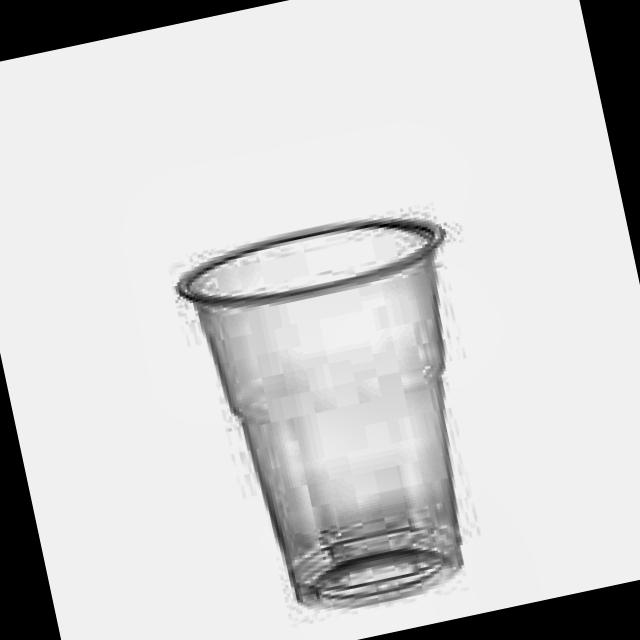plastic cup: (179, 219, 462, 604)
